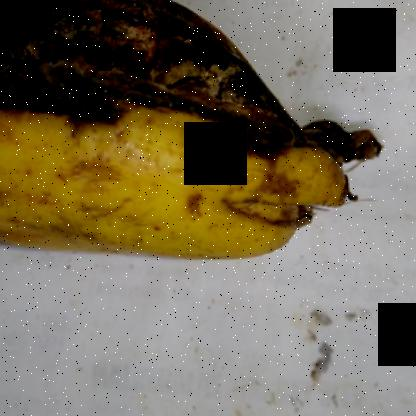ripe: (0, 1, 344, 264)
rotten: (0, 1, 307, 159)
